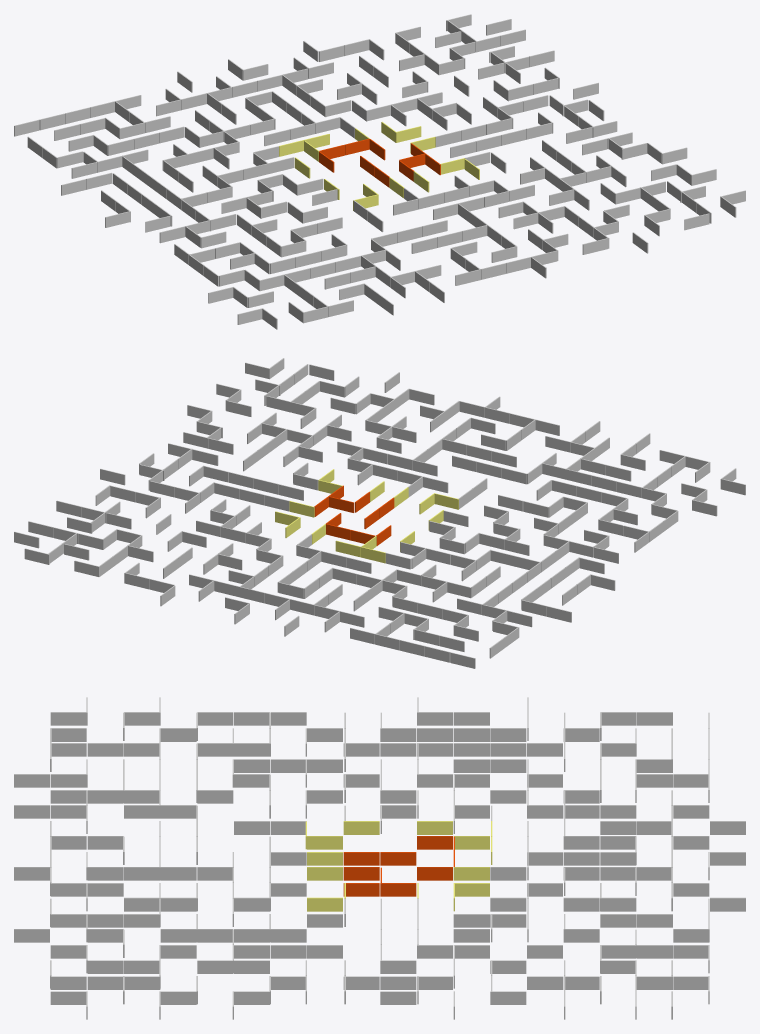
Rendered from evaluation_maze.glb.
3 views of the same model, one above another, from view 1: azimuth 30°, elevation 25°; view 2: azimuth 150°, elevation 25°; view 3: azimuth 270°, elevation 25° (orthographic). The views are drawn at different scales.
Parts seen in each view (by area): view 1: Plane.622; view 2: Plane.622; view 3: Plane.622.
Part boxes in pixels (bbox=[...]): Plane.622: bbox=[14, 14, 745, 329]; Plane.622: bbox=[14, 358, 745, 668]; Plane.622: bbox=[14, 697, 745, 1019].
Size of the model in its own units: 5.07 by 0.1 by 5.07.
